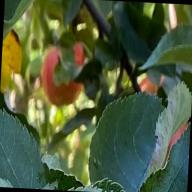Apples: (134, 74, 191, 160), (41, 42, 85, 108)
